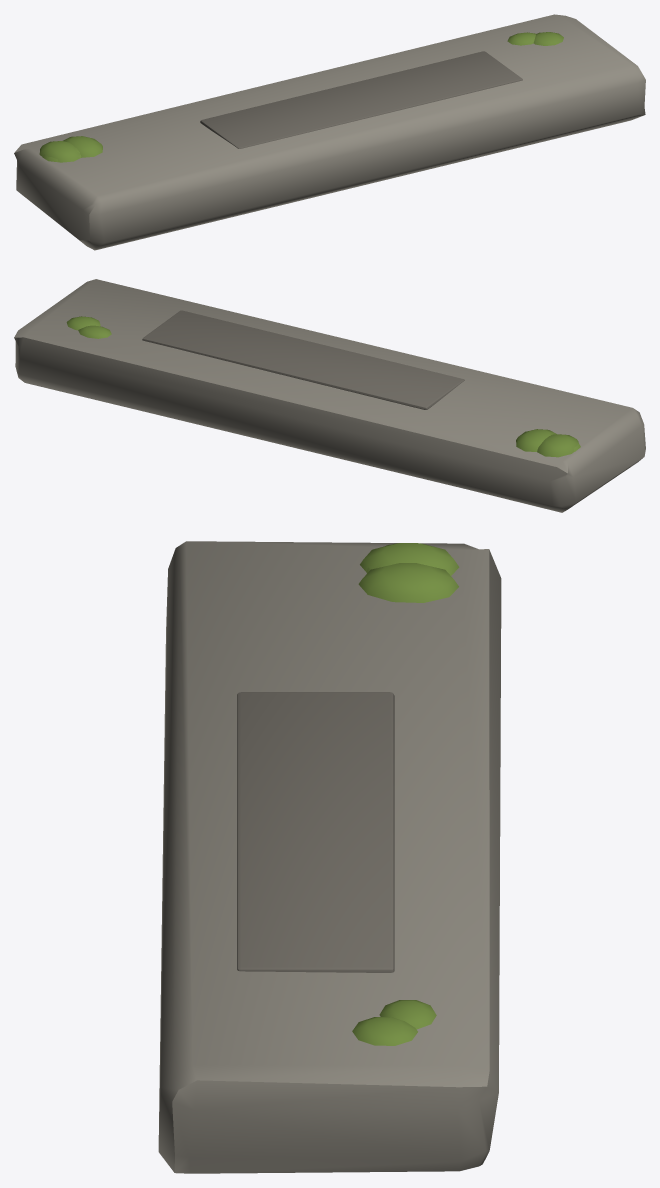
File: stone_step.glb
The picture shows the model from 3 angles, top to bottom: view 1: azimuth 30°, elevation 25°; view 2: azimuth 150°, elevation 25°; view 3: azimuth 270°, elevation 25°; orthographic projection. The views are drawn at different scales.
Parts seen in each view (by area): view 1: stone_step; view 2: stone_step; view 3: stone_step.
Part boxes in pixels (bbox=[...]): stone_step: bbox=[14, 14, 645, 250]; stone_step: bbox=[14, 279, 645, 512]; stone_step: bbox=[158, 541, 501, 1173].
Size of what is drawn, in the model's own units: 1.98 by 0.2057 by 0.52.
